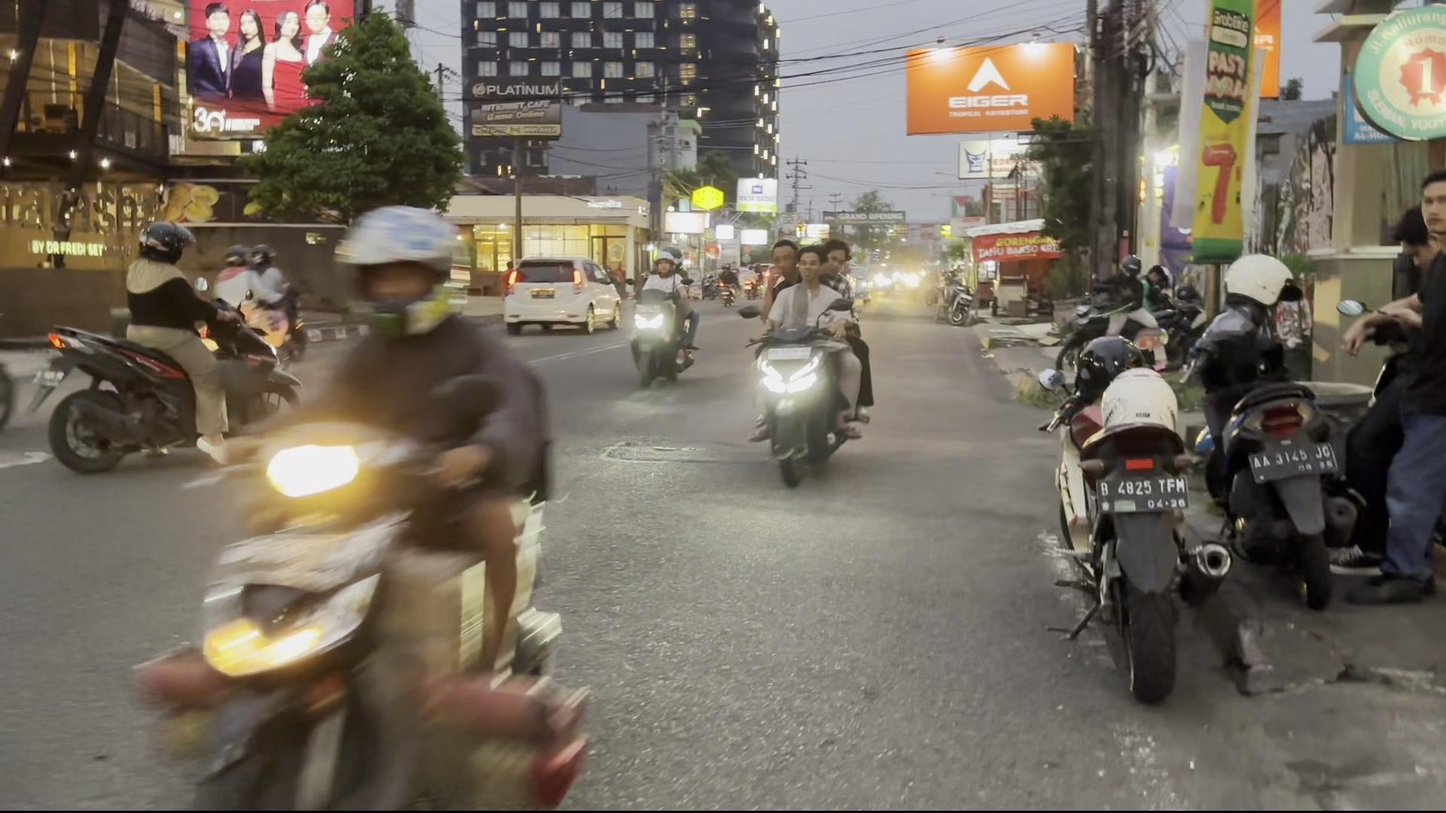nohelm: (796, 243, 825, 289), (823, 238, 853, 279), (770, 238, 798, 278)
riding: (742, 226, 883, 490)
